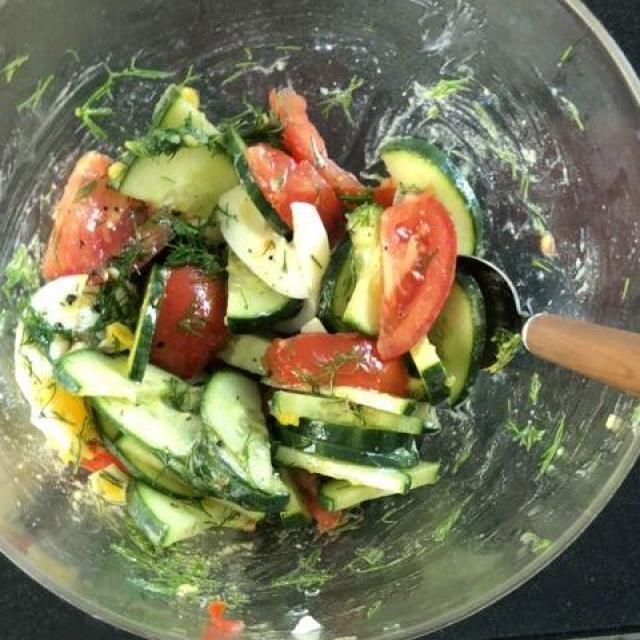cucumber: (23, 89, 495, 569)
